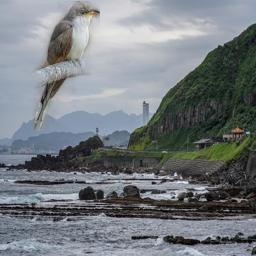Cuckoo: (32, 1, 100, 131)
